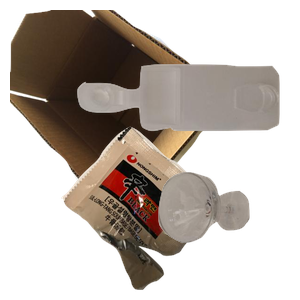cardboard: (10, 10, 218, 190)
glass: (156, 170, 300, 300)
plastic: (75, 62, 300, 186)
trash: (59, 124, 273, 300)
